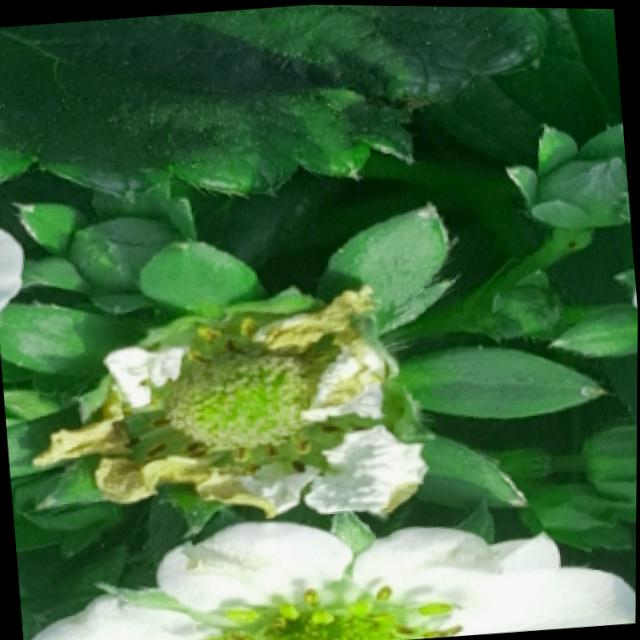Blossom Blight: (113, 318, 373, 484), (191, 579, 466, 640)
